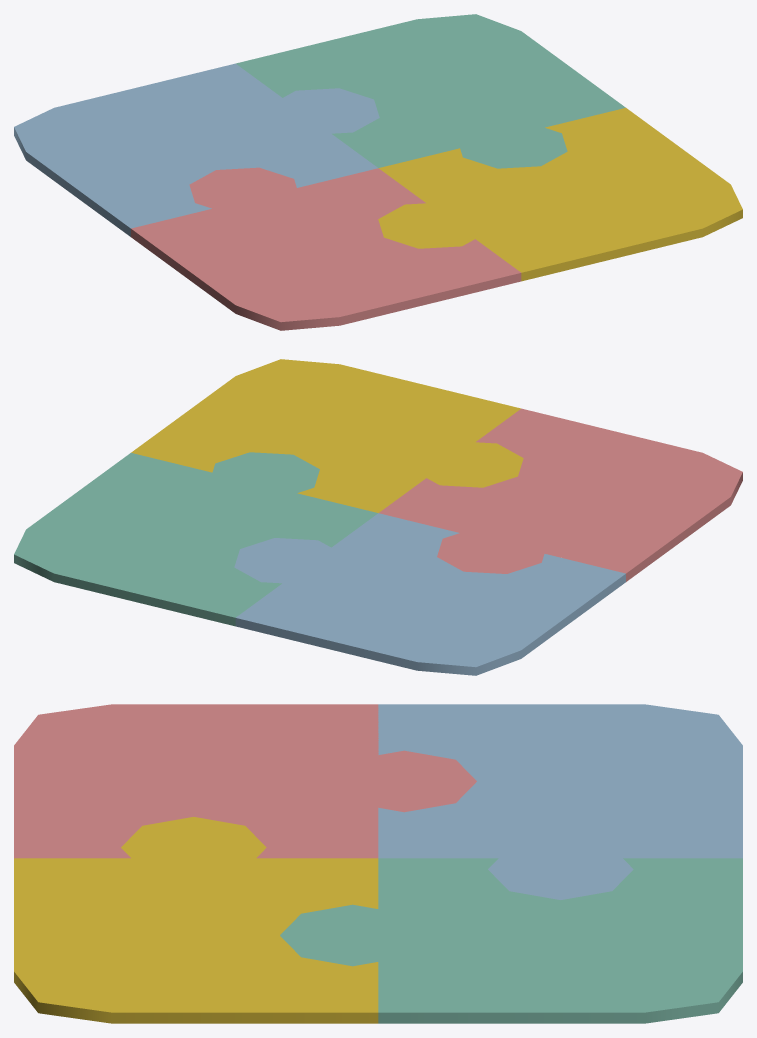
The model's file is carpet-rectangle-puzzle.glb.
3 views of the same model, one above another, from view 1: azimuth 30°, elevation 25°; view 2: azimuth 150°, elevation 25°; view 3: azimuth 270°, elevation 25° (orthographic). The views are drawn at different scales.
Parts seen in each view (by area): view 1: carpet-rectangle-puzzle; view 2: carpet-rectangle-puzzle; view 3: carpet-rectangle-puzzle.
Boxes of the visible parts, x1,y1,x2,y2 form: carpet-rectangle-puzzle: (14,14,742,330); carpet-rectangle-puzzle: (14,359,742,675); carpet-rectangle-puzzle: (14,704,742,1023).
Size of the model in its own units: 1.5 by 0.025 by 1.5.
